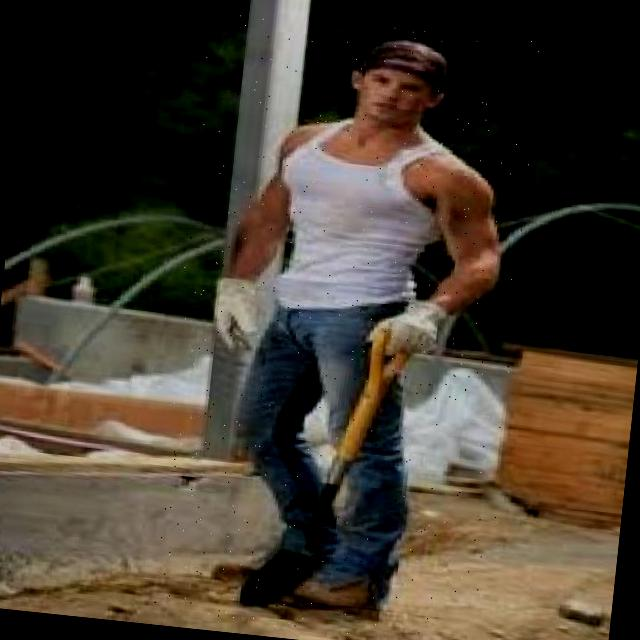boots: (291, 556, 392, 616)
gloves: (366, 284, 469, 375), (198, 261, 282, 347)
no-helmet: (326, 28, 471, 152)
no-vest: (249, 101, 456, 368)
